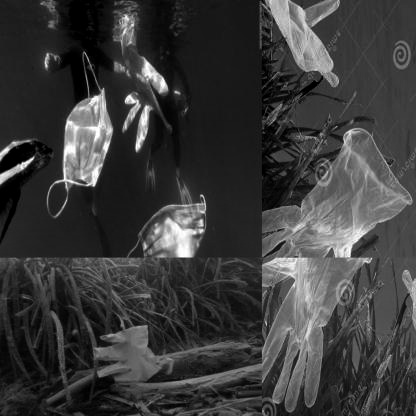Mask: (46, 42, 115, 230), (120, 193, 220, 257)
glove: (262, 134, 413, 257), (262, 258, 375, 409), (116, 7, 177, 160), (262, 0, 344, 91), (85, 326, 182, 385)
